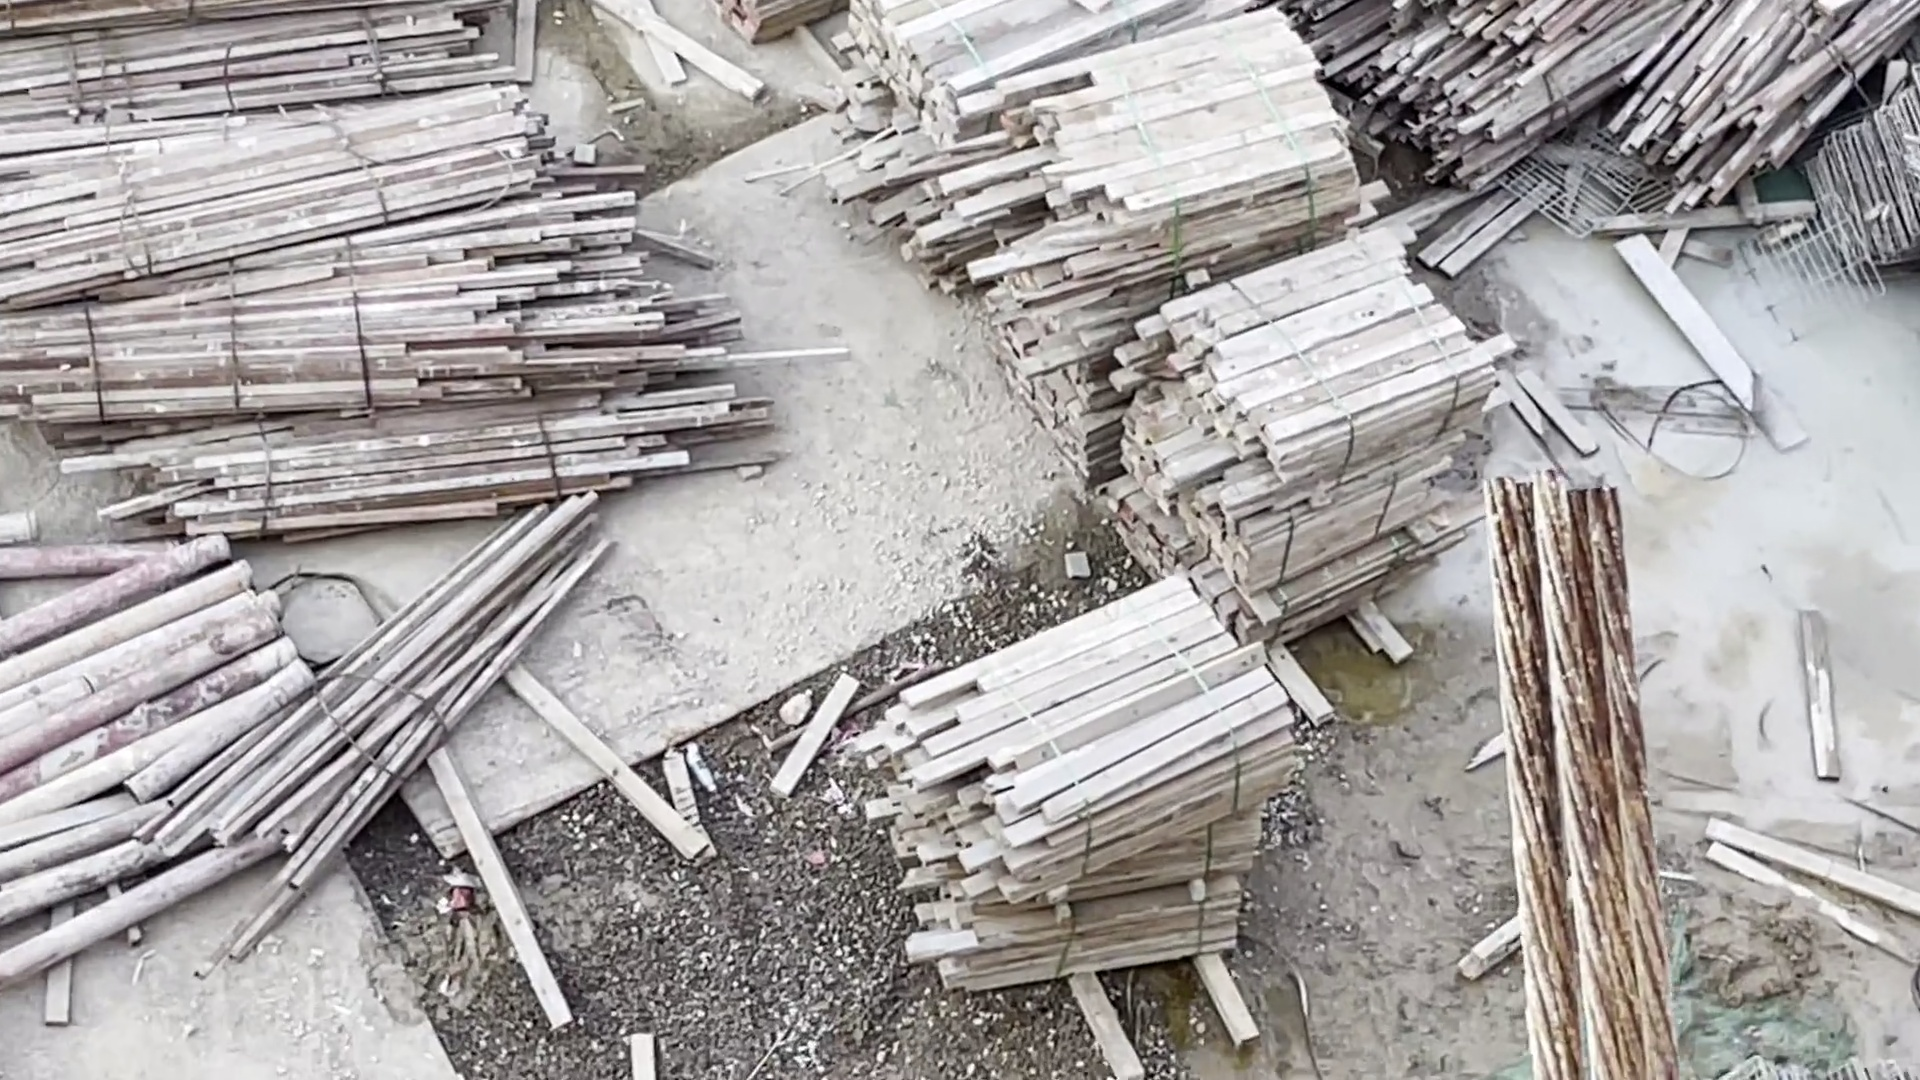wood: (1, 1, 728, 524), (832, 1, 1419, 464), (909, 612, 1253, 996), (1125, 269, 1509, 613), (1311, 1, 1855, 229)
